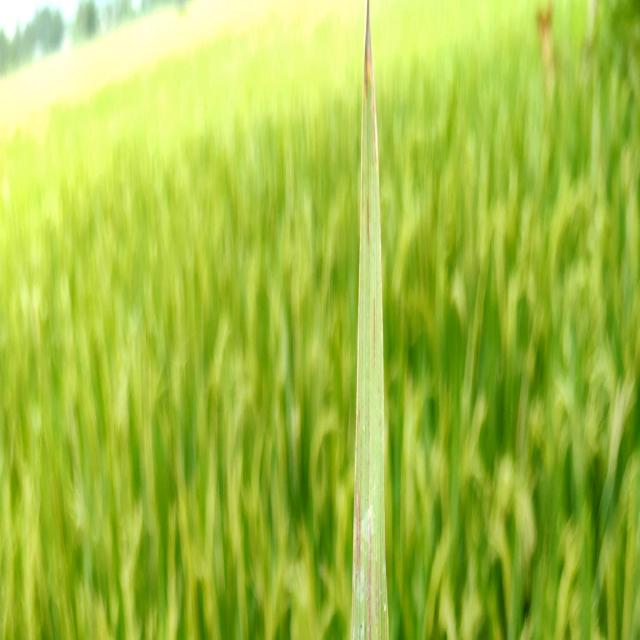NBS: (368, 511, 372, 640), (357, 491, 361, 572), (373, 296, 376, 370), (375, 554, 378, 627), (367, 193, 370, 246)
